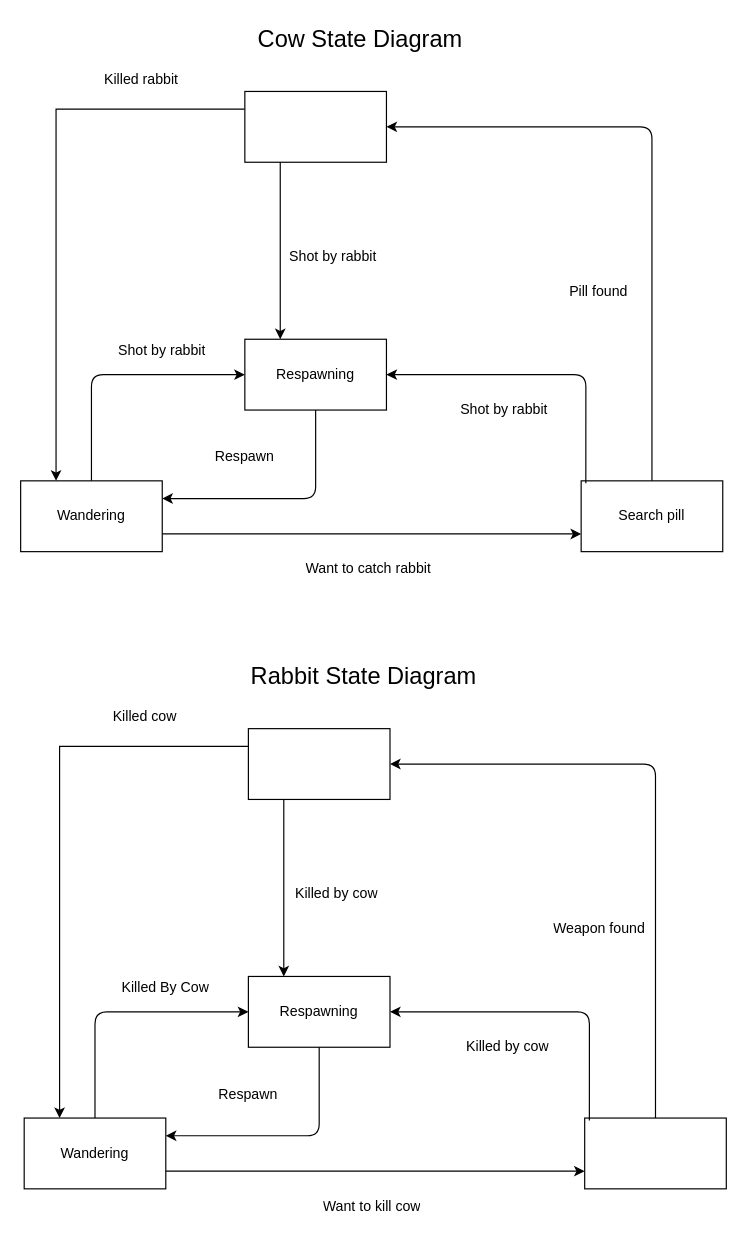
The diagram is 747 pixels wide and 1256 high, and some of its shapes have lost their labels. Here are the shapes that lost their labels. From the top down, the box of each, then its label:
(244, 90, 386, 162): Chase rabbit
(247, 727, 390, 799): Shoot Cow
(584, 1117, 726, 1189): Search weapon
